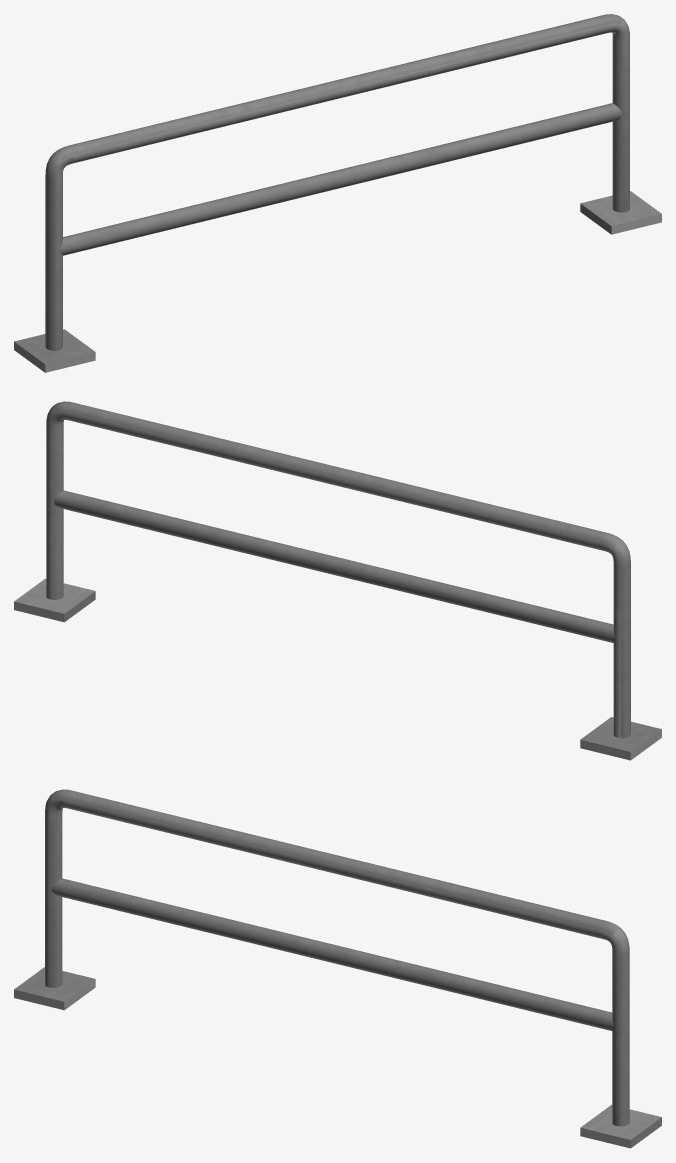
Rendered from RailGuard.fbx.
3 views of the same model, one above another, from view 1: azimuth 30°, elevation 25°; view 2: azimuth 150°, elevation 25°; view 3: azimuth 330°, elevation 25° (orthographic).
Visible parts, largest first — view 1: RailGuard; view 2: RailGuard; view 3: RailGuard.
Boxes of the visible parts, <box> form: RailGuard: <box>14,14,661,372</box>; RailGuard: <box>14,401,661,760</box>; RailGuard: <box>14,789,661,1148</box>.
Bounding box in the file's own units: 301 × 95.92 × 26.43.
Materials: 1 (1 with a texture image).
